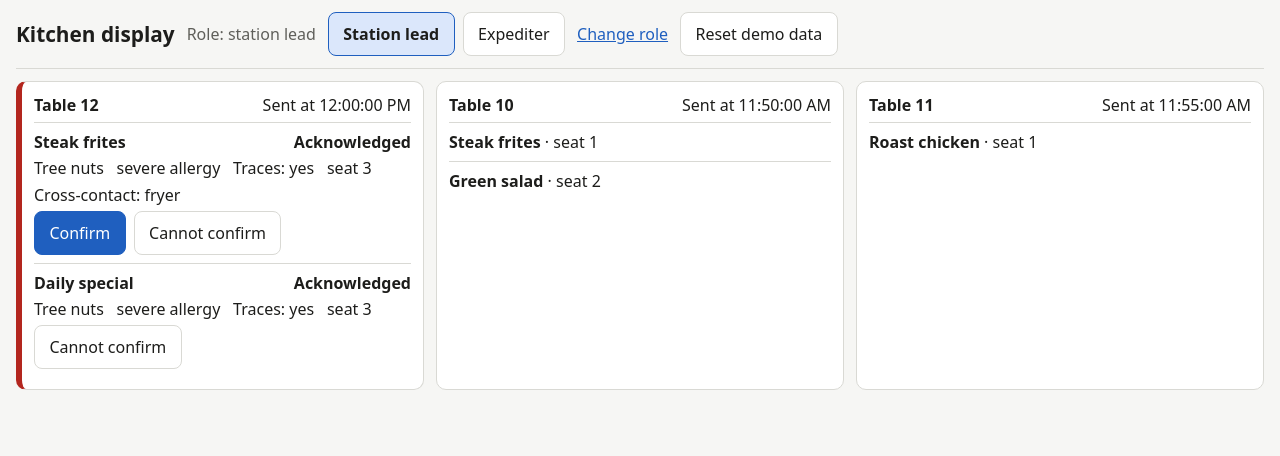
Scenario: US4 review and sign-off on the kitchen display › REQ-11: "Cancel" closes the reason field without saving
Click the button "Cannot confirm" below "Daily special" at {"x": 108, "y": 347}, box [34, 325, 182, 369]
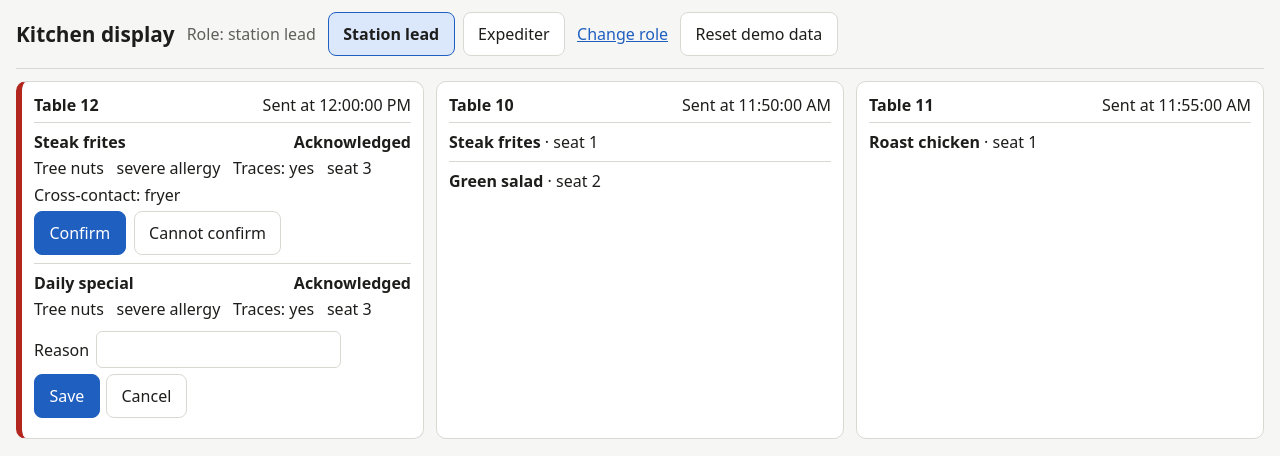
Click the button "Cancel" at {"x": 146, "y": 396}, box [106, 374, 187, 418]
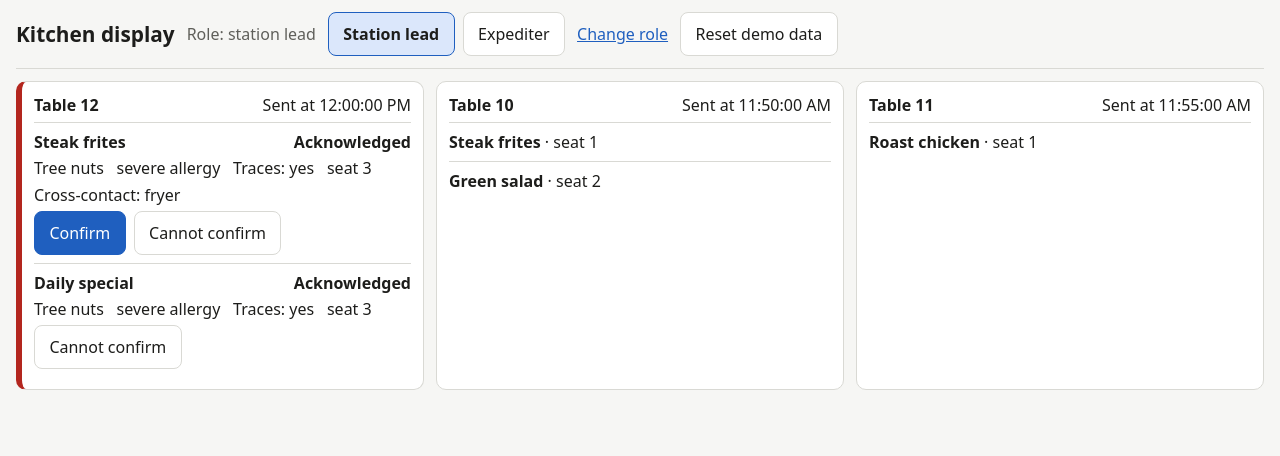
Expected: the 1st text "Acknowledged" is shown, [294, 131, 411, 153]
Result: the label labelled "Reason" is gone
